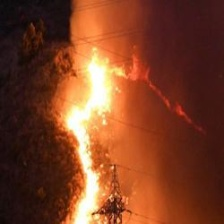fire: (55, 33, 138, 224)
